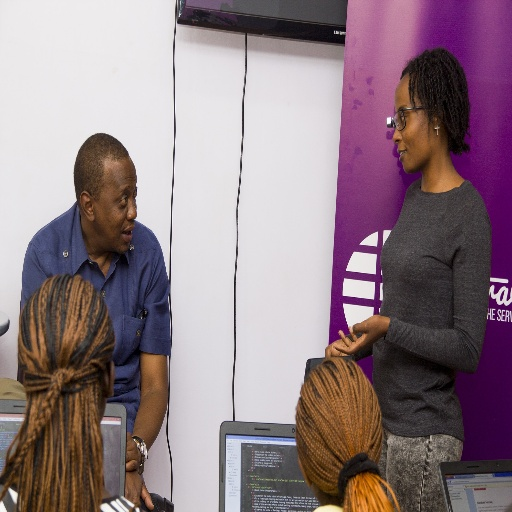hand: (330, 301, 409, 366), (124, 470, 154, 511), (323, 336, 356, 361), (126, 432, 142, 474)
